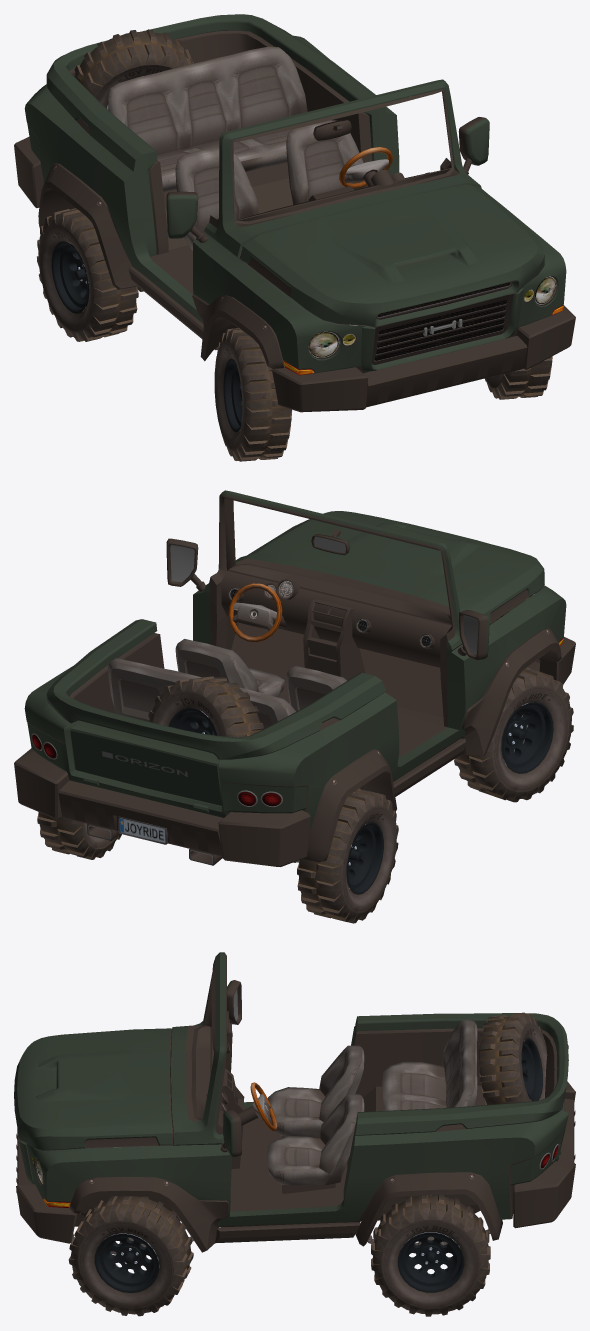
File: auto.glb
3 views of the same model, one above another, from view 1: azimuth 30°, elevation 25°; view 2: azimuth 150°, elevation 25°; view 3: azimuth 270°, elevation 25° (orthographic). The views are drawn at different scales.
Visible parts, largest first — view 1: node_id153, node_id151, node_id142, node_id180, node_id161, node_id139, node_id132, node_id110, node_id128, node_id82, node_id130, node_id135 (+8 smaller); view 2: node_id153, node_id151, node_id180, node_id132, node_id142, node_id135, node_id139, node_id110, node_id137, node_id128, node_id130, node_id125 (+9 smaller); view 3: node_id153, node_id151, node_id180, node_id142, node_id118, node_id125, node_id121, node_id110, node_id114, node_id123, node_id116, node_id108 (+4 smaller).
Boxes of the visible parts, x1=… form: node_id153: x1=24, y1=14, x2=566, y2=373; node_id151: x1=14, y1=30, x2=575, y2=412; node_id142: x1=108, y1=46, x2=307, y2=192; node_id180: x1=175, y1=120, x2=367, y2=262; node_id161: x1=371, y1=281, x2=513, y2=364; node_id139: x1=216, y1=328, x2=291, y2=461; node_id132: x1=37, y1=208, x2=138, y2=341; node_id110: x1=74, y1=29, x2=193, y2=97; node_id128: x1=39, y1=224, x2=94, y2=332; node_id82: x1=167, y1=118, x2=489, y2=238; node_id130: x1=51, y1=241, x2=89, y2=313; node_id135: x1=214, y1=341, x2=245, y2=450; node_id153: x1=24, y1=490, x2=566, y2=831; node_id151: x1=14, y1=495, x2=575, y2=866; node_id180: x1=175, y1=639, x2=346, y2=711; node_id132: x1=297, y1=788, x2=398, y2=923; node_id142: x1=108, y1=658, x2=295, y2=729; node_id135: x1=492, y1=685, x2=569, y2=792; node_id139: x1=454, y1=667, x2=573, y2=802; node_id110: x1=148, y1=676, x2=263, y2=737; node_id137: x1=501, y1=702, x2=553, y2=773; node_id128: x1=341, y1=805, x2=396, y2=913; node_id130: x1=346, y1=822, x2=383, y2=894; node_id125: x1=37, y1=812, x2=121, y2=859; node_id153: x1=14, y1=952, x2=568, y2=1226; node_id151: x1=16, y1=955, x2=575, y2=1252; node_id180: x1=266, y1=1045, x2=364, y2=1185; node_id142: x1=382, y1=1019, x2=477, y2=1110; node_id118: x1=68, y1=1196, x2=193, y2=1316; node_id125: x1=371, y1=1194, x2=490, y2=1316; node_id121: x1=381, y1=1219, x2=480, y2=1308; node_id110: x1=478, y1=1012, x2=545, y2=1104; node_id114: x1=77, y1=1221, x2=174, y2=1309; node_id123: x1=398, y1=1232, x2=464, y2=1292; node_id116: x1=94, y1=1233, x2=159, y2=1292; node_id108: x1=521, y1=1038, x2=542, y2=1101.
Size of the model in its own units: 0.4963 by 0.4105 by 0.8278.
Materials: 48 (48 with a texture image).
